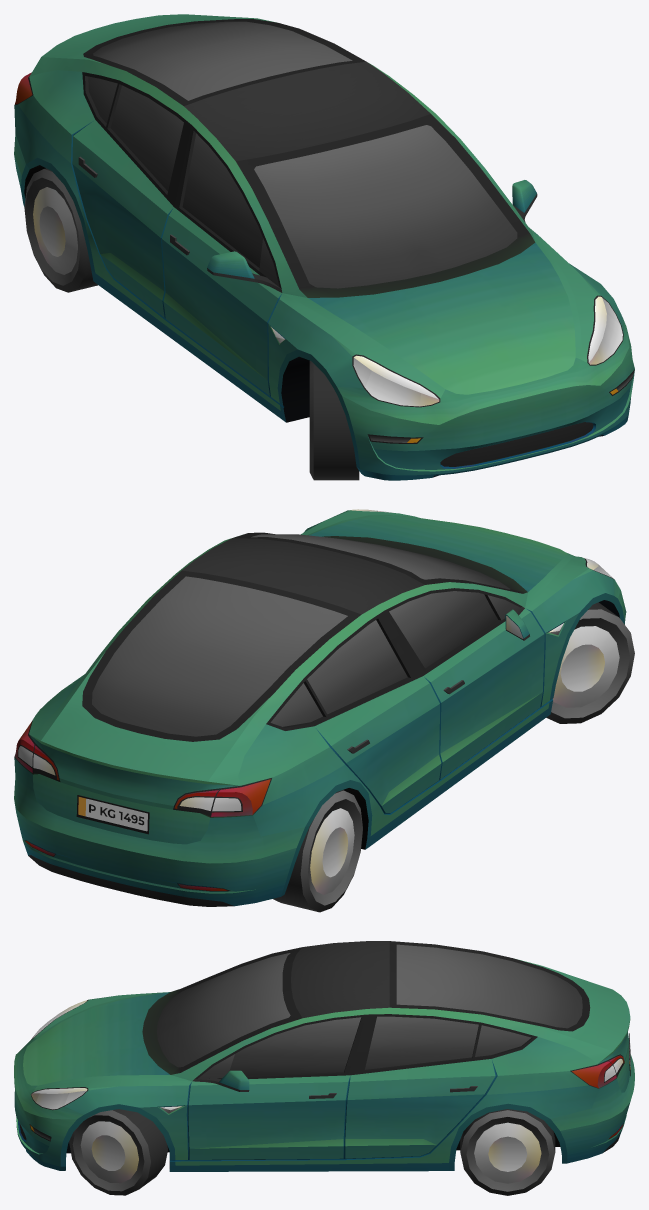
File: cv-tesla3.glb
3 renders of one model, top to bottom at view 1: azimuth 30°, elevation 25°; view 2: azimuth 150°, elevation 25°; view 3: azimuth 270°, elevation 25°, orthographic. The views are drawn at different scales.
Parts seen in each view (by area): view 1: Body.001_Vehicle_0, lamp_head_R, lamp_head_L; view 2: Body.001_Vehicle_0; view 3: Body.001_Vehicle_0, lamp_head_L.
Part boxes in pixels (bbox=[...]): Body.001_Vehicle_0: bbox=[14, 14, 634, 480]; lamp_head_R: bbox=[365, 371, 420, 406]; lamp_head_L: bbox=[598, 314, 622, 361]; Body.001_Vehicle_0: bbox=[14, 509, 634, 912]; Body.001_Vehicle_0: bbox=[14, 941, 634, 1195]; lamp_head_L: bbox=[36, 1093, 68, 1109].
Size of the model in its own units: 2.15 by 1.45 by 4.69.
2 materials, 2 textured.
